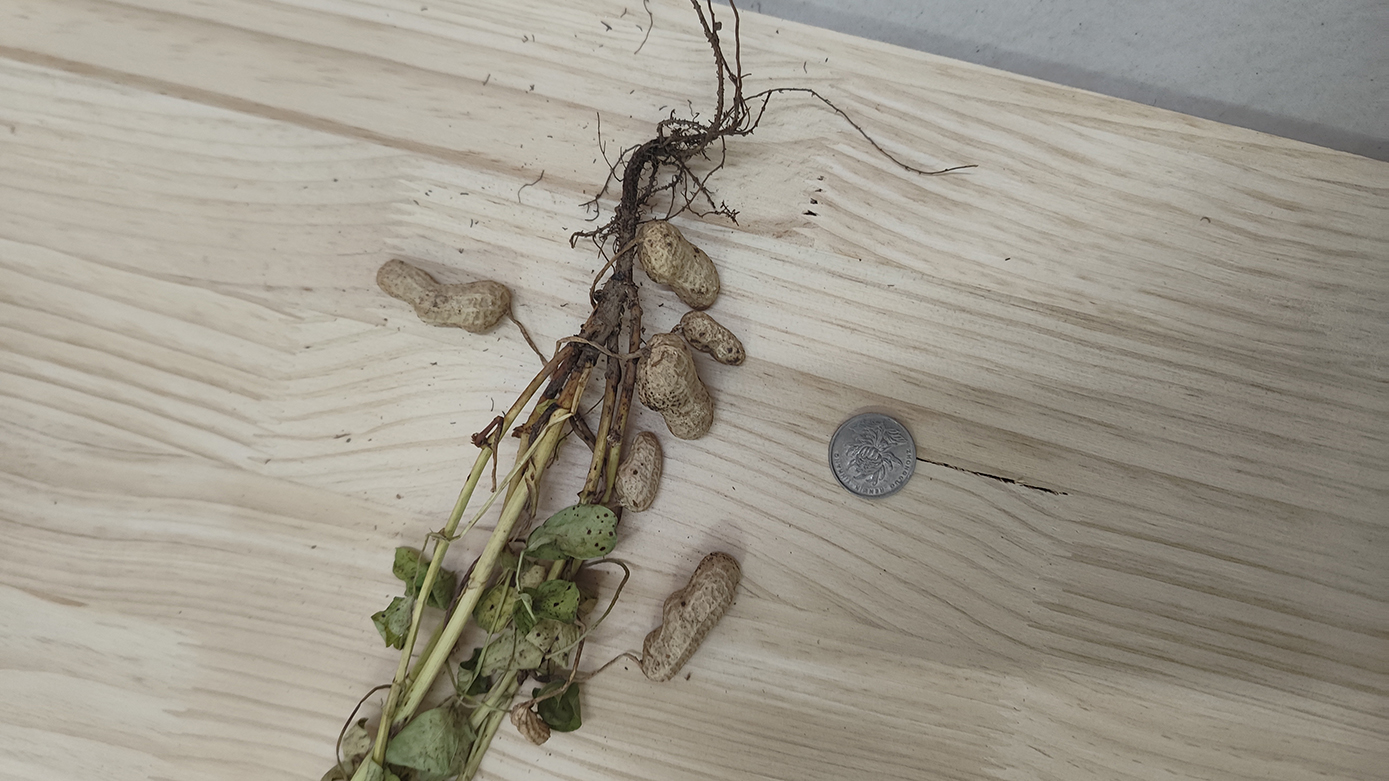h: (639, 550, 740, 681), (375, 257, 515, 334), (636, 334, 713, 440), (636, 218, 721, 312), (615, 430, 664, 514), (680, 310, 745, 365)
l: (508, 703, 551, 745)
